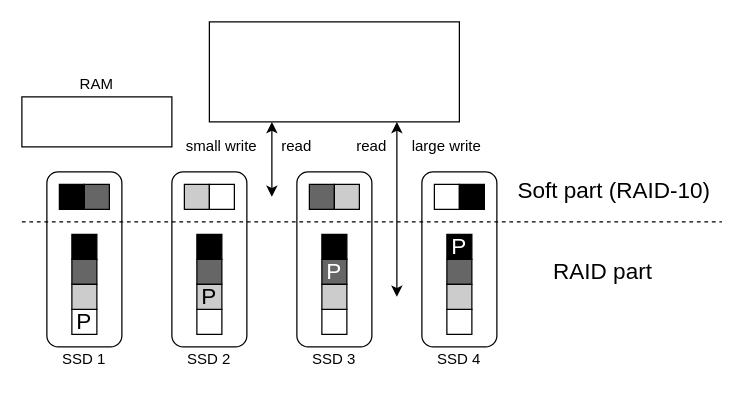
Some shapes in this 745 by 394 pixel diagram are drawn without their labels. Here are the shapes that lost their labels. From the top down, the centre of each, then its label:
At pixel 333 71: "User Application".
At pixel 96 121: "Remap table".
